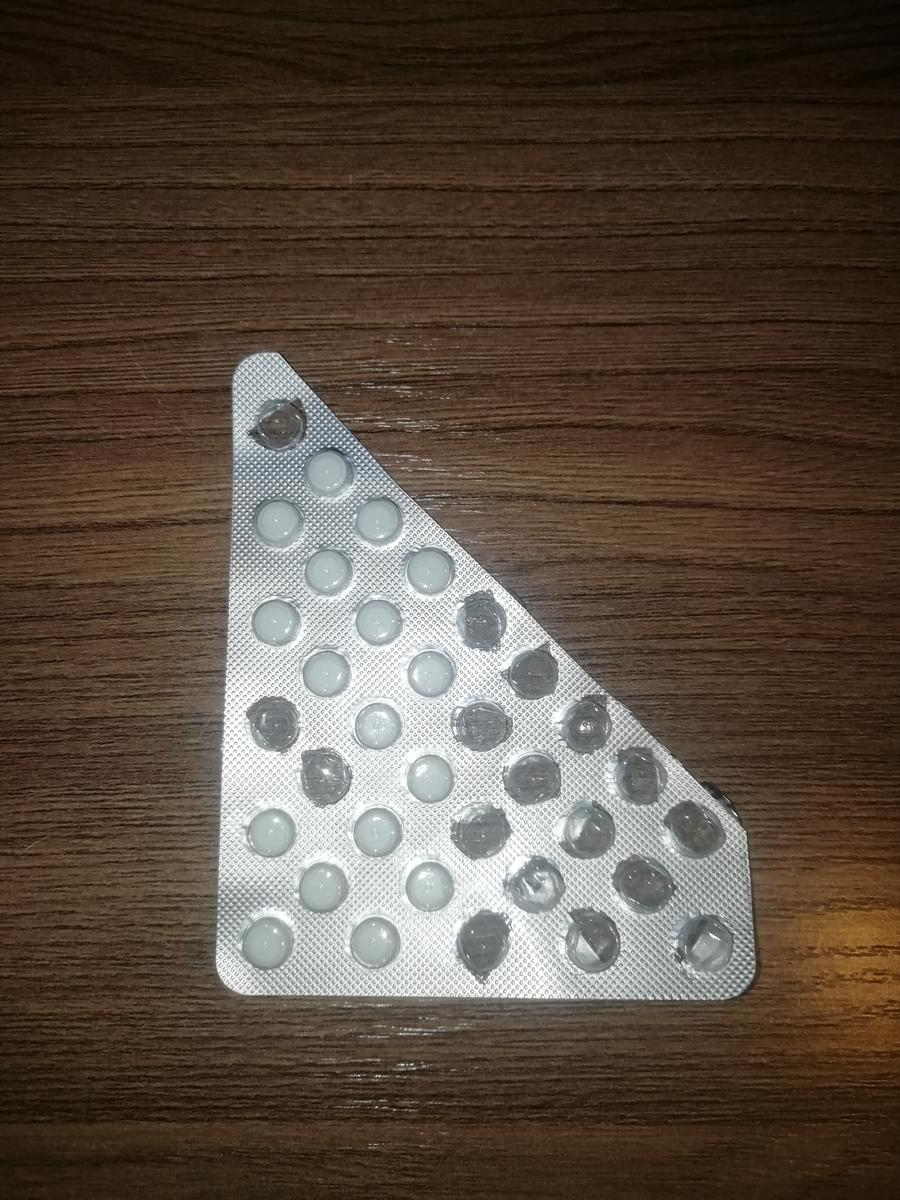tablet: (297, 445, 358, 500), (249, 496, 310, 551), (350, 498, 411, 553), (296, 542, 357, 597), (401, 541, 462, 596), (349, 595, 410, 650), (251, 594, 312, 649), (296, 642, 357, 697), (402, 646, 463, 701), (348, 696, 409, 751), (403, 752, 464, 807), (346, 803, 407, 858), (237, 807, 298, 862), (293, 860, 354, 915), (396, 861, 457, 916), (341, 916, 402, 971), (236, 916, 297, 971)
